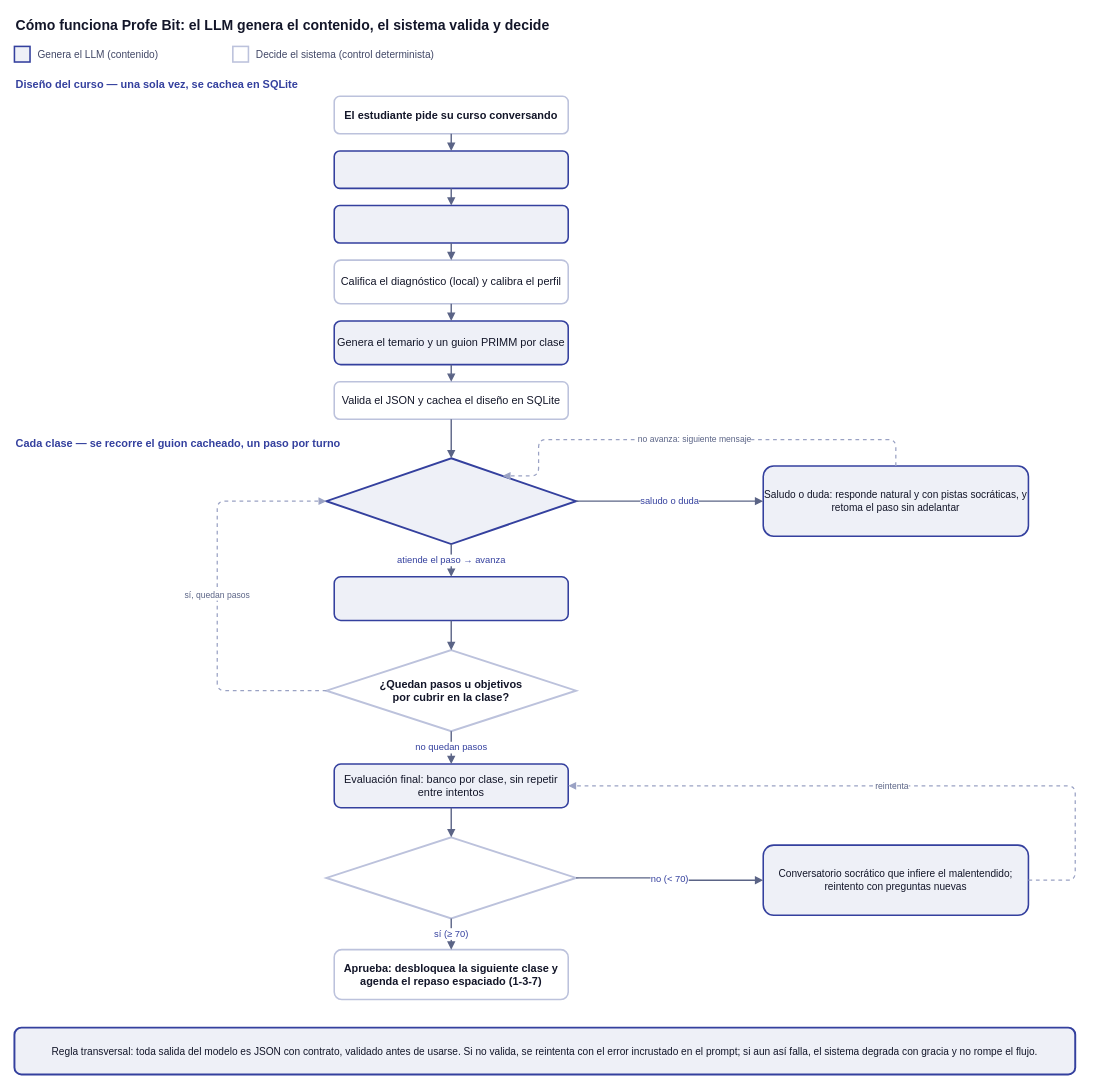
The diagram is 1096 pixels wide and 1089 high, and some of its shapes have lost their labels. Each missing label, with the centre of its shape:
"El asesor entrevista y extrae el perfil (JSON)" belongs at (451,169).
"Examen diagnóstico calibrado al nivel" belongs at (451,223).
"Nota ponderada (Bloom), calificada localmente: ¿≥ 70?" belongs at (451,877).
"Reacciona (celebra o corrige) y despliega el paso siguiente" belongs at (451,598).
"¿El mensaje del estudiante atiende el paso actual?" belongs at (451,501).
